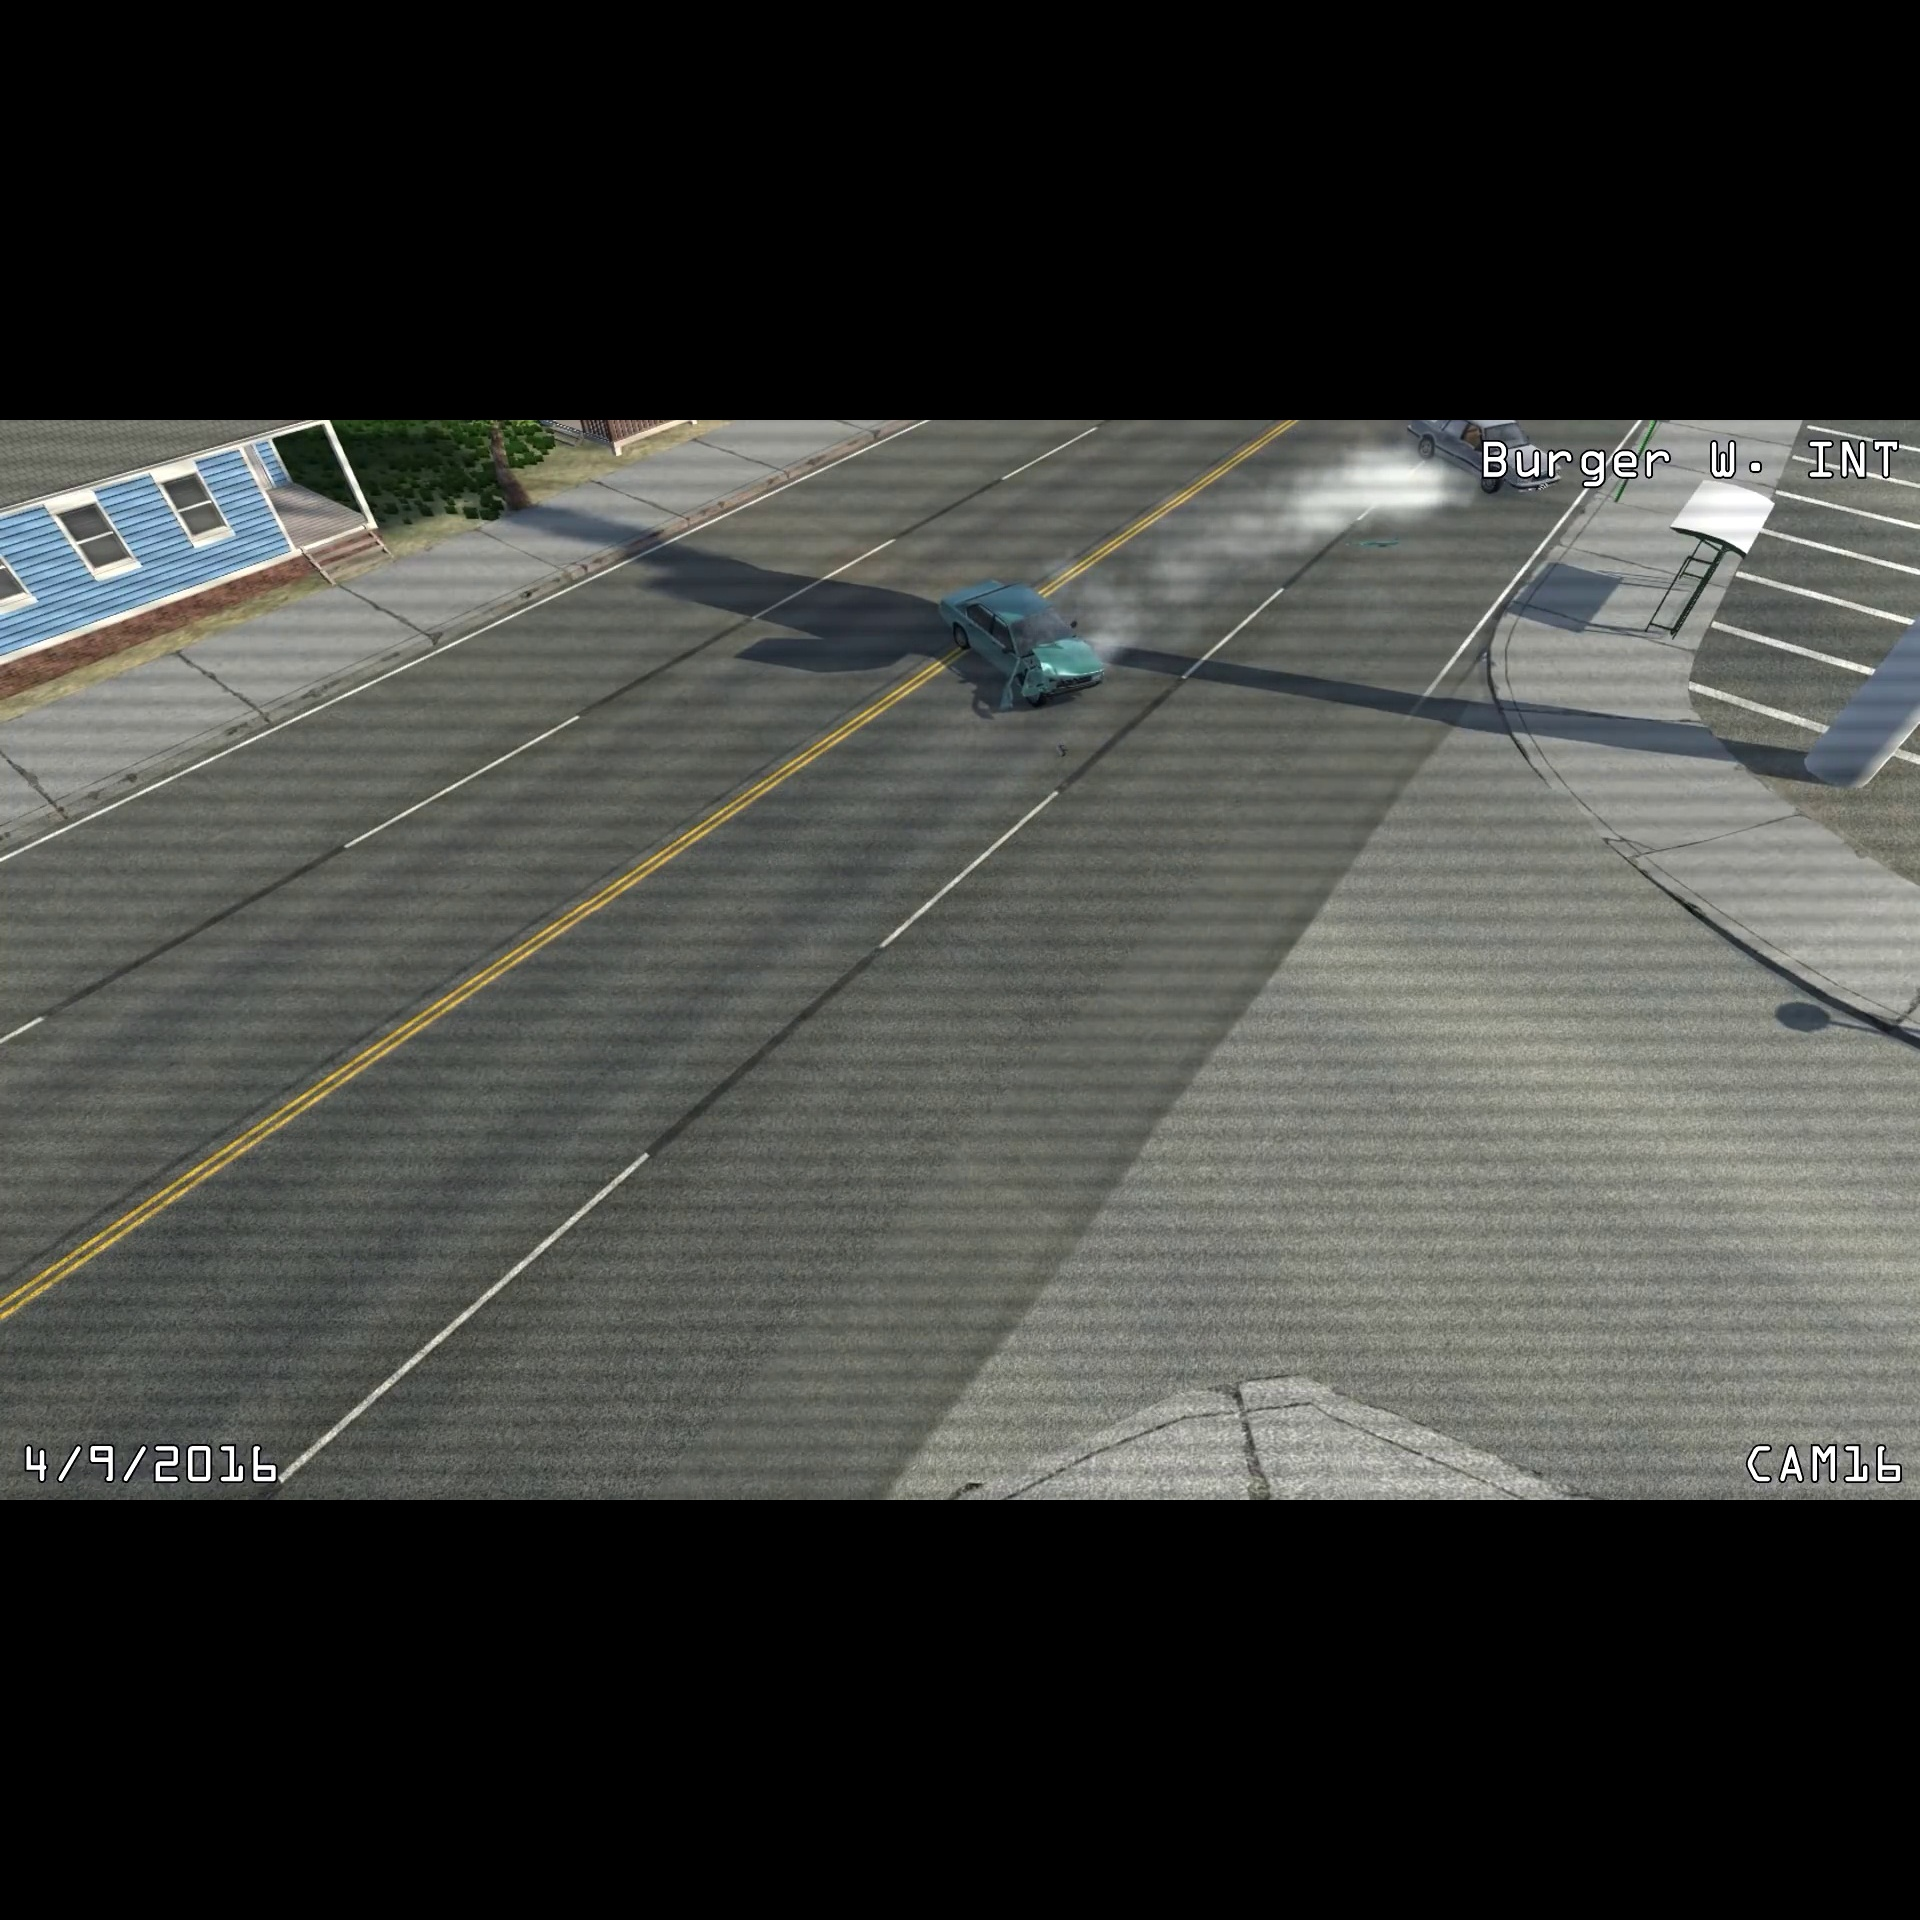vehicle: (935, 573, 1106, 707), (1400, 418, 1565, 499)
